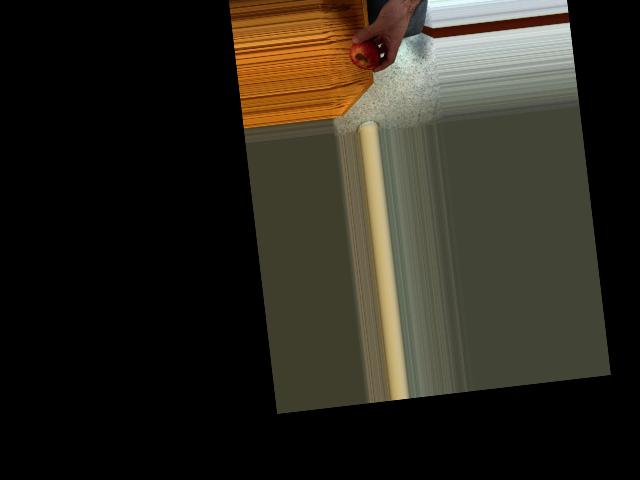apple: (346, 33, 383, 73)
